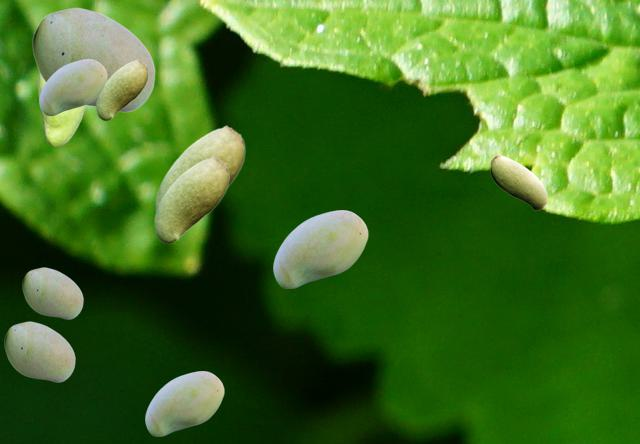green_mango: (32, 7, 154, 111), (155, 125, 244, 211), (273, 210, 367, 287), (154, 156, 228, 242), (145, 371, 223, 435), (4, 321, 74, 381), (39, 59, 106, 114), (38, 74, 86, 145), (490, 154, 546, 209), (22, 267, 82, 318), (96, 59, 147, 119)
